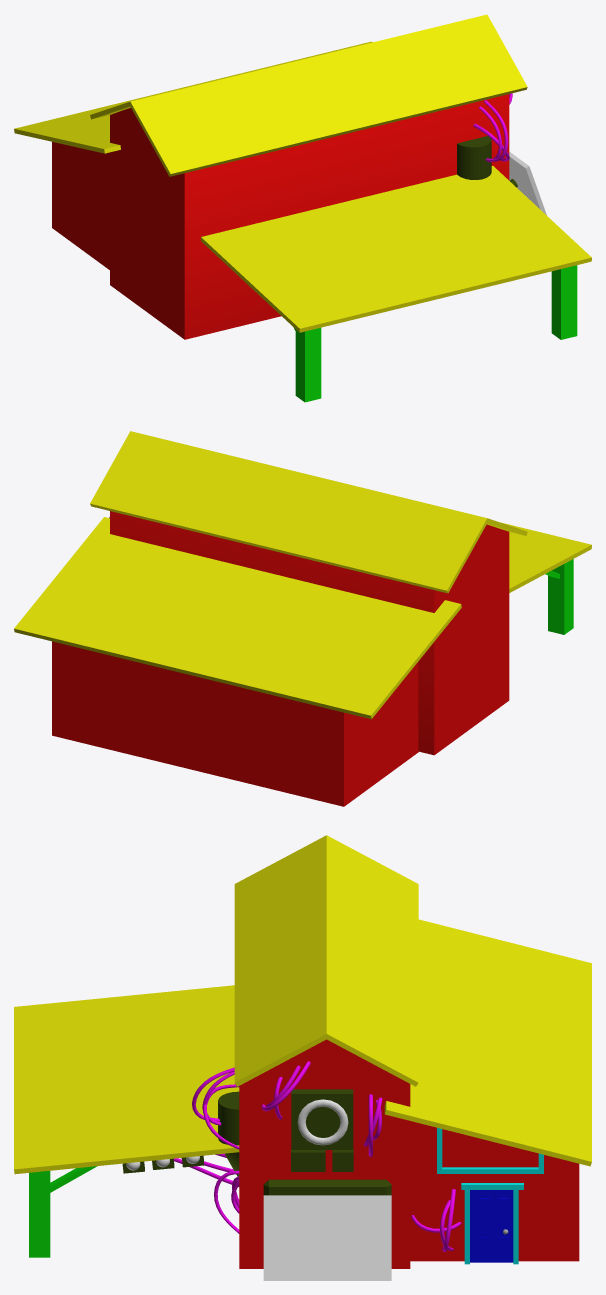
Rendered from Farmhouse.fbx.
3 renders of one model, top to bottom at view 1: azimuth 30°, elevation 25°; view 2: azimuth 150°, elevation 25°; view 3: azimuth 270°, elevation 25°, orthographic. The views are drawn at different scales.
Visible parts, largest first — view 1: pasted__pCube1, pCube3, pasted__pCube7, pCube2, pCube6, pasted__pCube4, pCube4, pCylinder4, pCube11; view 2: pCube6, pCube2, pCube7, pasted__pCube1, pCube3, pasted__pCube4; view 3: pCube6, pCube3, pCube7, pasted__pCube7, pasted__pCube1, pCube2, pCube11, pCube5, pCube16, pCube10, pCube4, pCylinder4 (+3 smaller).
Boxes of the visible parts, bbox=[...] form: pasted__pCube1: bbox=[110, 94, 509, 339]; pCube3: bbox=[201, 166, 591, 332]; pasted__pCube7: bbox=[129, 14, 527, 176]; pCube2: bbox=[52, 142, 109, 269]; pCube6: bbox=[14, 41, 372, 153]; pasted__pCube4: bbox=[295, 327, 321, 402]; pCube4: bbox=[551, 265, 577, 339]; pCylinder4: bbox=[457, 136, 491, 179]; pCube11: bbox=[509, 152, 546, 215]; pCube6: bbox=[14, 517, 461, 719]; pCube2: bbox=[52, 641, 418, 806]; pCube7: bbox=[90, 431, 487, 593]; pasted__pCube1: bbox=[110, 511, 509, 755]; pCube3: bbox=[501, 522, 591, 592]; pasted__pCube4: bbox=[548, 559, 573, 634]; pCube6: bbox=[384, 919, 591, 1166]; pCube3: bbox=[14, 985, 239, 1174]; pCube7: bbox=[324, 835, 418, 1086]; pasted__pCube7: bbox=[234, 835, 327, 1086]; pasted__pCube1: bbox=[239, 1039, 410, 1268]; pCube2: bbox=[410, 1121, 579, 1261]; pCube11: bbox=[263, 1195, 391, 1280]; pCube5: bbox=[291, 1089, 353, 1149]; pCube16: bbox=[470, 1190, 513, 1262]; pCube10: bbox=[263, 1179, 391, 1195]; pCube4: bbox=[29, 1171, 50, 1257]; pCylinder4: bbox=[218, 1091, 239, 1145].
Size of the model in its own units: 24.19 by 12.73 by 27.05.
